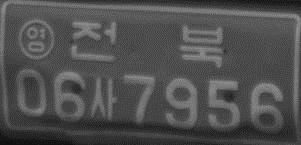0: (14, 67, 47, 118)
5: (207, 78, 241, 134)
6: (250, 81, 286, 136), (53, 70, 86, 124)
7: (122, 74, 155, 127)
9: (164, 76, 199, 132)
사: (89, 78, 117, 122)
영: (17, 17, 56, 61)
전북_D: (69, 20, 224, 68)
